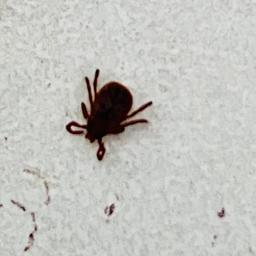Rhipicephalus sanguineus: (65, 69, 153, 161)
